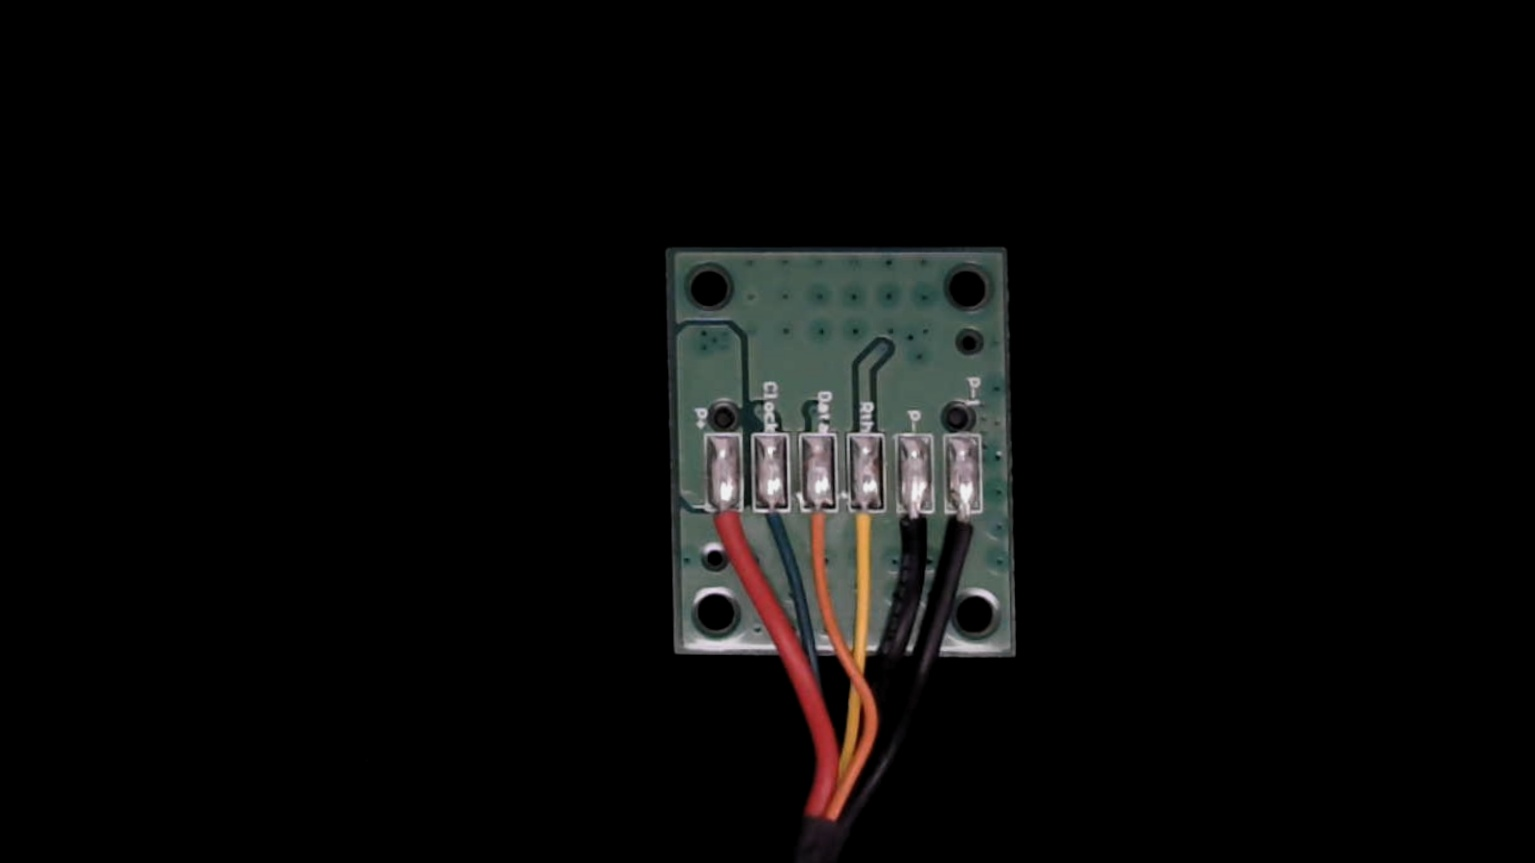Black: (898, 493, 935, 575)
Black1: (945, 493, 987, 577)
Green: (752, 489, 795, 558)
Orange: (801, 491, 841, 572)
Red: (706, 488, 745, 573)
Yellow: (848, 491, 891, 584)
